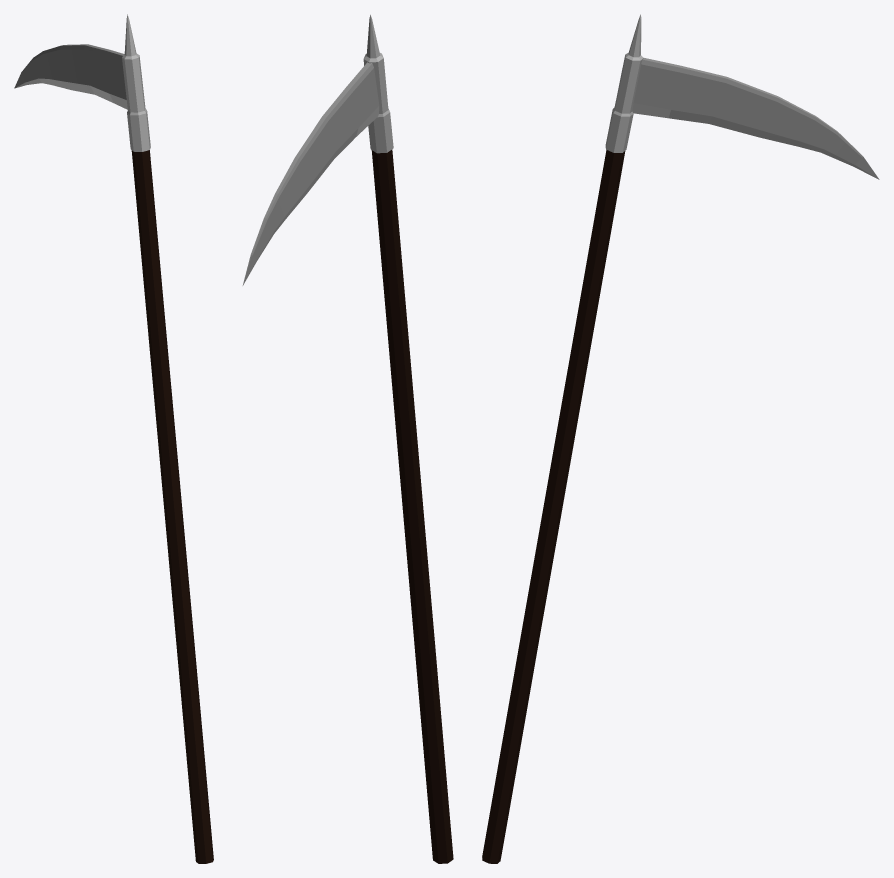
Rendered from Scyth.glb.
The picture shows the model from 3 angles, left to right: view 1: azimuth 30°, elevation 25°; view 2: azimuth 150°, elevation 25°; view 3: azimuth 270°, elevation 25°; orthographic projection. The views are drawn at different scales.
Visible parts, largest first — view 1: Scyth; view 2: Scyth; view 3: Scyth.
Boxes of the visible parts, x1,y1,x2,y2 form: Scyth: [14, 14, 213, 863]; Scyth: [242, 14, 453, 863]; Scyth: [482, 14, 879, 863].
Bounding box in the file's own units: 550 × 18924 × 8084.
